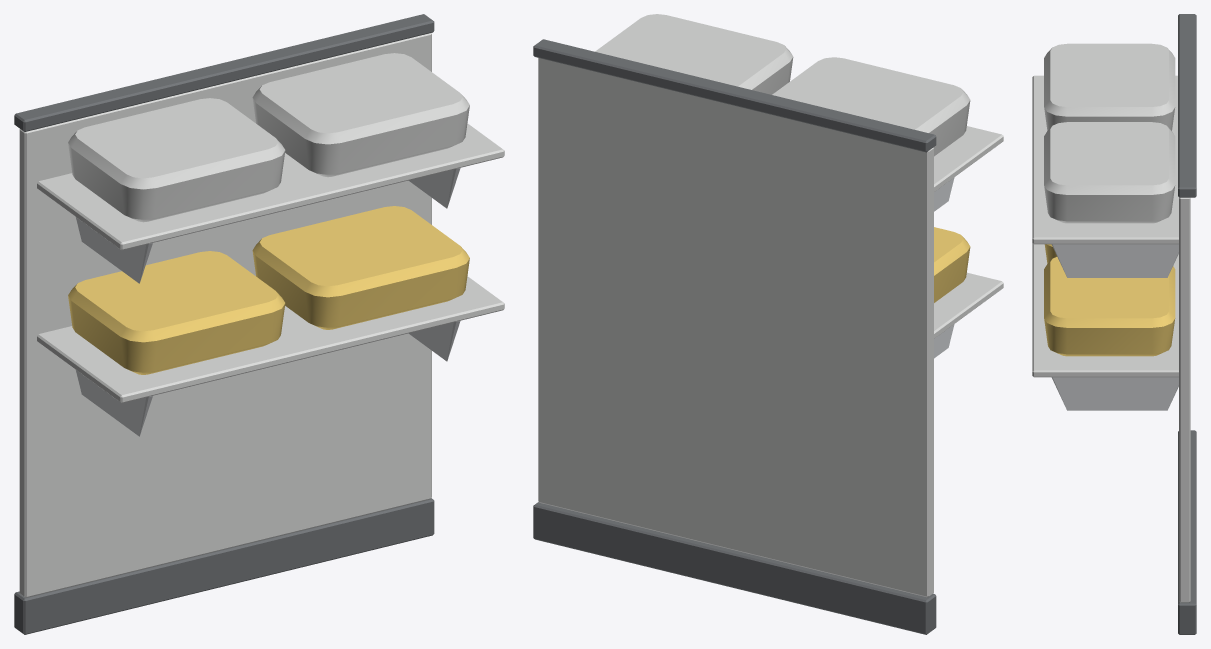
File: clinic-and-veterinary-practice-cat-basket-shelf-74298bfb__16813.glb
The picture shows the model from 3 angles, left to right: view 1: azimuth 30°, elevation 25°; view 2: azimuth 150°, elevation 25°; view 3: azimuth 270°, elevation 25°; orthographic projection. The views are drawn at different scales.
Parts seen in each view (by area): view 1: cat-basket-shelf; view 2: cat-basket-shelf; view 3: cat-basket-shelf.
Boxes of the visible parts, x1=… form: cat-basket-shelf: x1=14, y1=14, x2=504, y2=634; cat-basket-shelf: x1=533, y1=14, x2=1003, y2=634; cat-basket-shelf: x1=1032, y1=14, x2=1196, y2=634.
Bounding box in the file's own units: 1.07 × 1.28 × 0.425.
